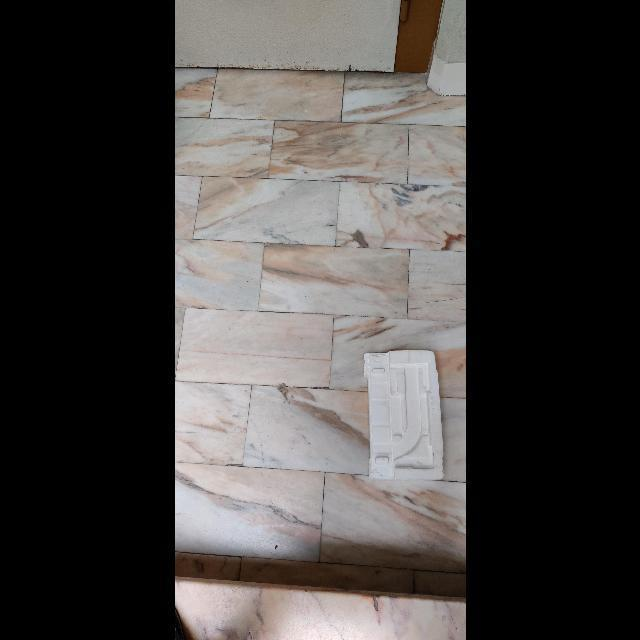Plastic: (363, 351, 443, 479)
